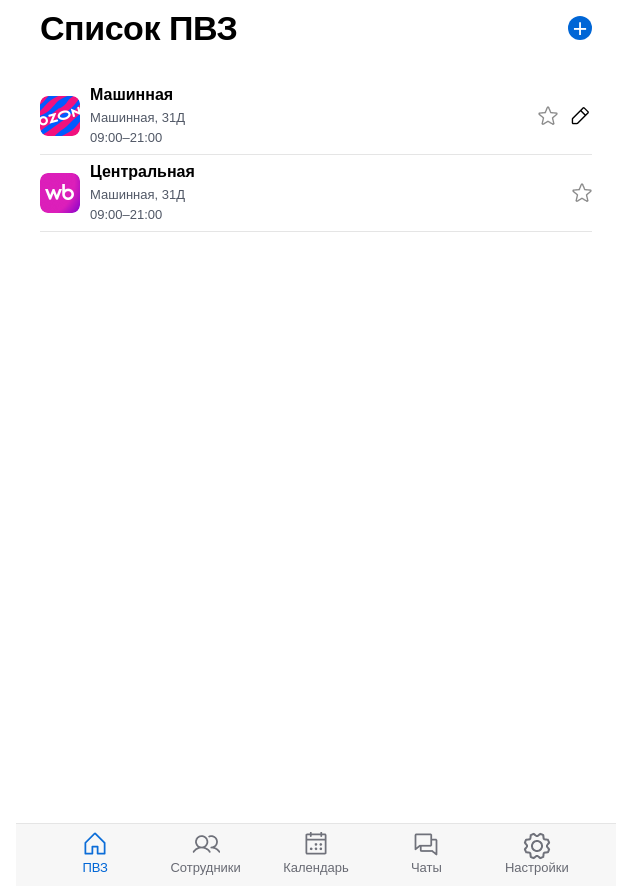
it: кнопки редактирования есть только у владельца, просмотр содержит данные и сотрудников
Check: the text "Машинная" is shown, box x1=90 y1=86 x2=173 y2=103
Check: the 1st text "09:00–21:00" is shown, box x1=90 y1=130 x2=162 y2=145
Step 1. Click the link with aria-label "Открыть ПВЗ Машинная" → click(112, 116), box x1=40 y1=86 x2=185 y2=145
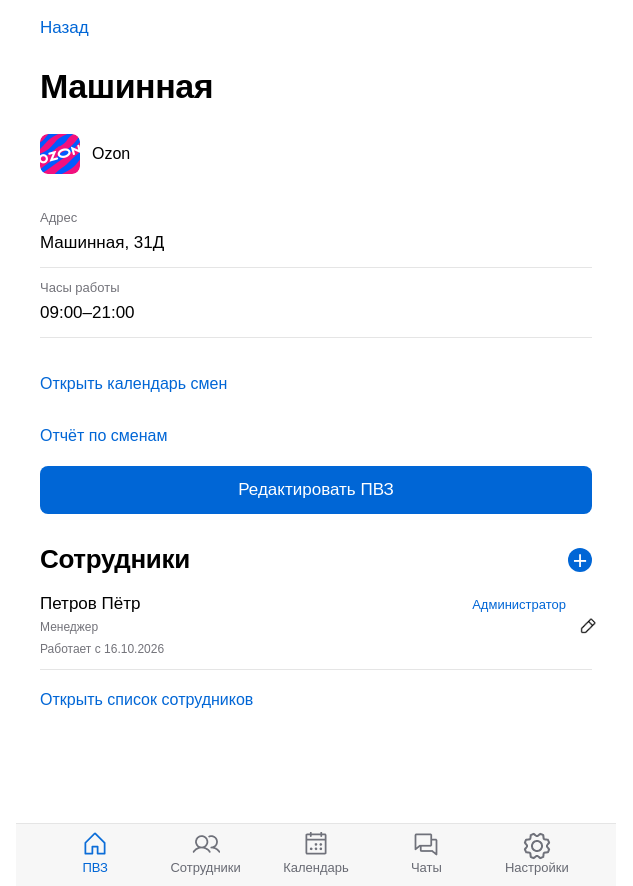
Check: the heading "Машинная" is shown, box x1=40 y1=67 x2=213 y2=105
Check: the text "Петров Пётр" is shown, box x1=40 y1=594 x2=140 y2=613
Check: the text "Администратор" is shown, box x1=472 y1=595 x2=566 y2=615
